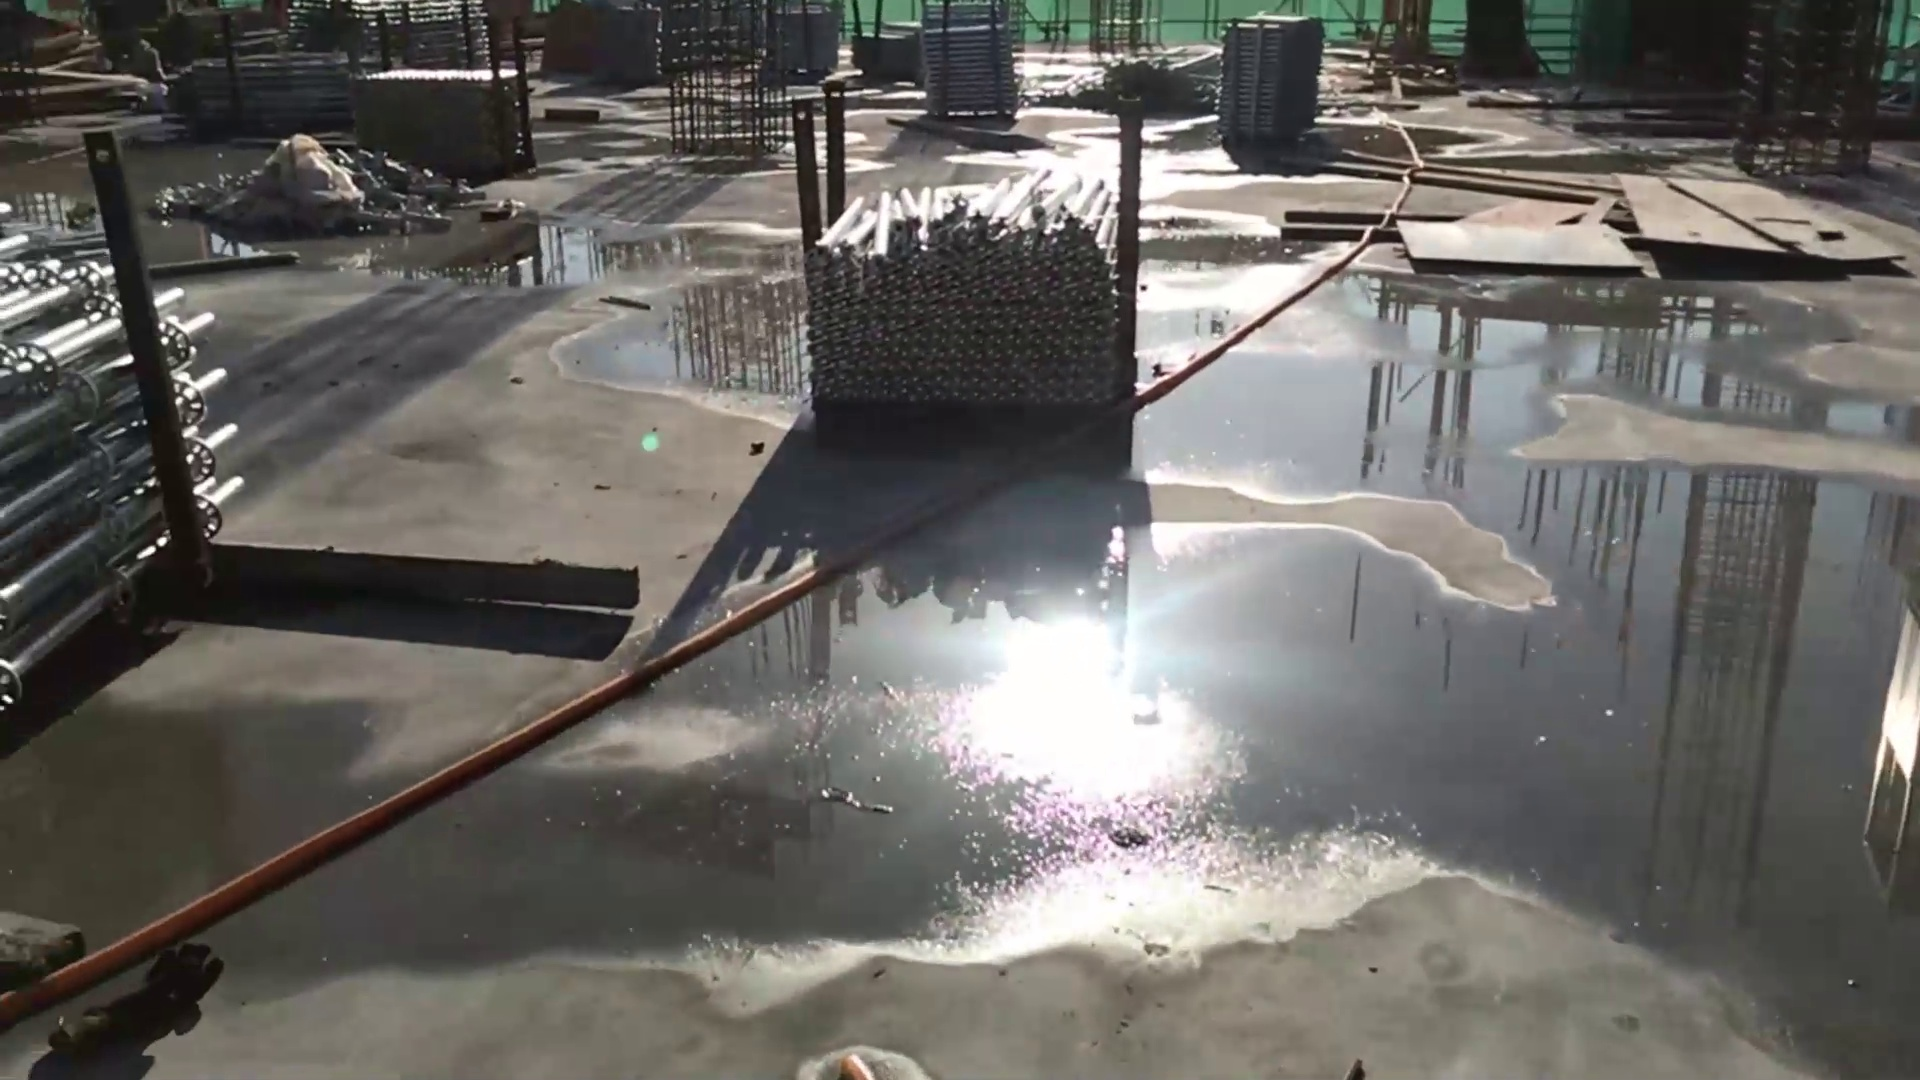scaffold: (1, 212, 235, 720), (806, 167, 1120, 414), (1215, 13, 1327, 152), (920, 20, 1023, 115)
